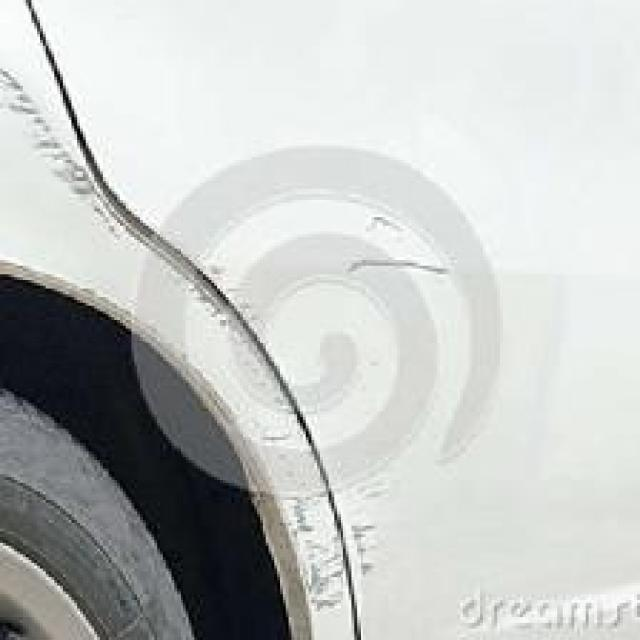damaged: (240, 211, 457, 626)
